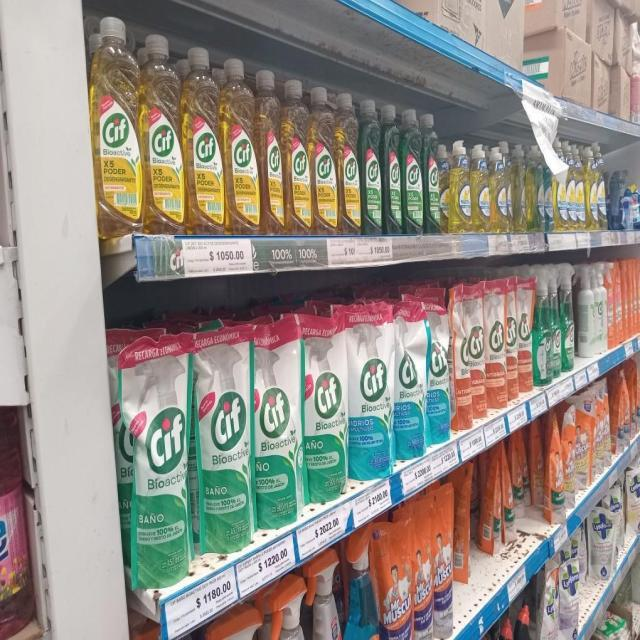cif_conc_bot_amarilla: (93, 14, 140, 234), (142, 32, 182, 234), (184, 44, 222, 234), (223, 57, 258, 235), (283, 78, 310, 236), (258, 68, 283, 236), (310, 85, 336, 236), (336, 92, 359, 236)
cif_conc_botella_verde: (360, 99, 382, 236), (382, 103, 402, 236), (402, 107, 422, 235), (423, 112, 439, 234)
magistral_con_amarillo: (450, 138, 471, 233), (490, 142, 508, 234), (472, 142, 489, 234), (527, 143, 543, 233), (512, 141, 526, 233), (585, 142, 598, 230), (554, 144, 567, 232), (572, 144, 585, 232), (595, 143, 607, 231)
magistral_con_azul: (544, 149, 554, 232)
